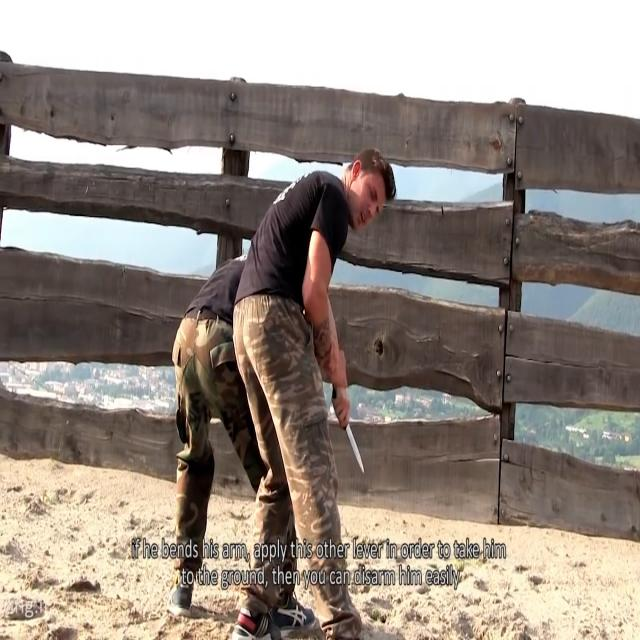knife: (345, 423, 369, 480)
